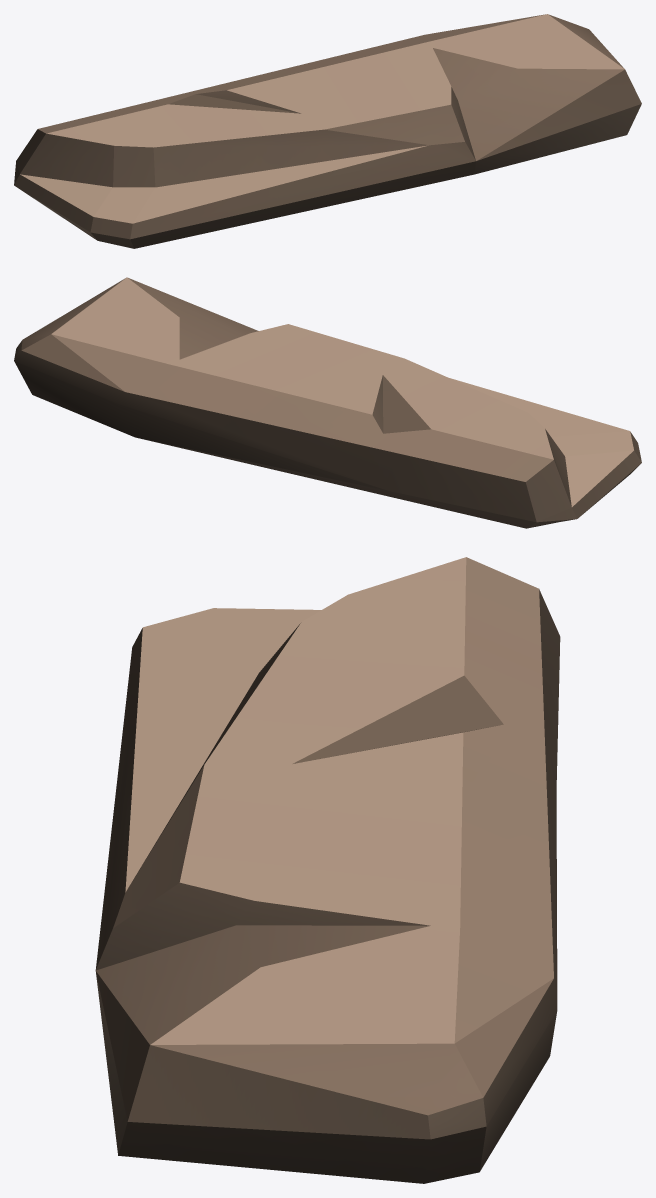
Rendered from Stone_Step_3C.fbx.
3 renders of one model, top to bottom at view 1: azimuth 30°, elevation 25°; view 2: azimuth 150°, elevation 25°; view 3: azimuth 270°, elevation 25°, orthographic. The views are drawn at different scales.
Parts seen in each view (by area): view 1: Stone_Step_3C; view 2: Stone_Step_3C; view 3: Stone_Step_3C.
Boxes of the visible parts, x1,y1,x2,y2 form: Stone_Step_3C: (14,14,641,248); Stone_Step_3C: (14,277,641,528); Stone_Step_3C: (95,557,560,1183).
Bounding box in the file's own units: 2.98 × 0.2933 × 1.06.
